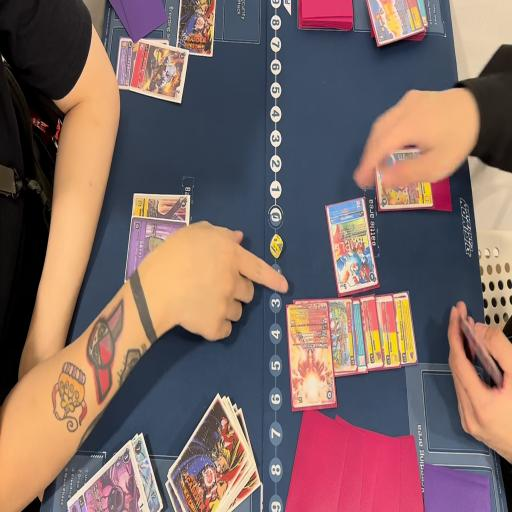card: (67, 442, 152, 511), (285, 298, 332, 419), (326, 196, 379, 298), (124, 217, 191, 293), (375, 134, 433, 214), (130, 42, 190, 103), (365, 0, 420, 52), (130, 192, 193, 234), (133, 431, 163, 512), (328, 296, 356, 375), (376, 286, 400, 374), (394, 288, 417, 371), (348, 292, 368, 379), (113, 34, 140, 94), (362, 294, 382, 374)
